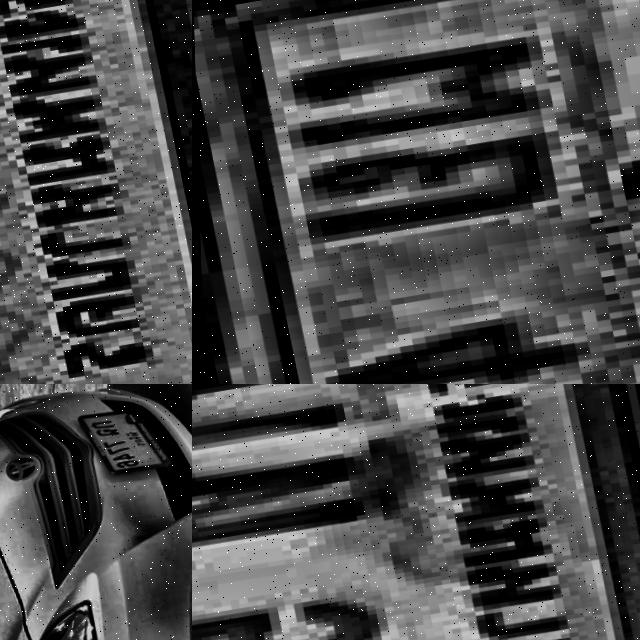license-plate: (192, 0, 640, 384), (192, 384, 640, 640), (0, 0, 192, 384), (71, 388, 183, 494)
